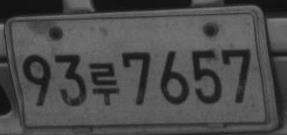3: (53, 53, 87, 107)
5: (191, 48, 221, 104)
6: (159, 50, 190, 104)
7: (222, 47, 251, 104), (120, 51, 150, 106)
9: (21, 53, 51, 106)
루: (89, 61, 119, 105)
